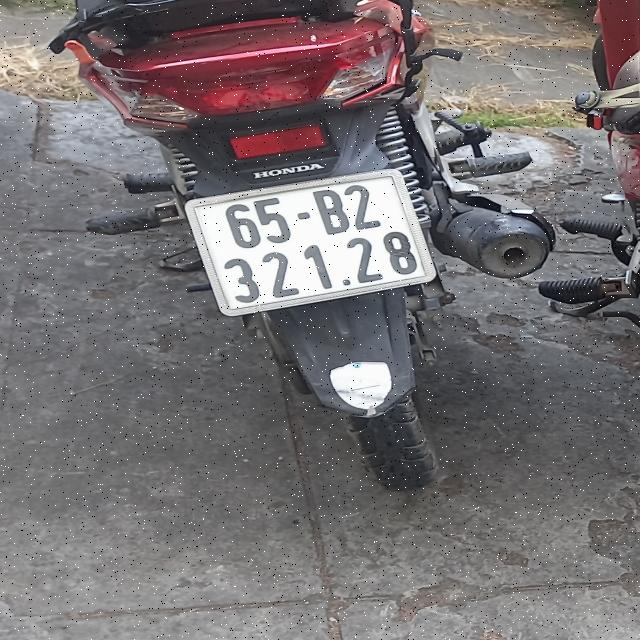1: (299, 242, 337, 292)
2: (342, 235, 384, 283), (262, 249, 298, 300), (342, 181, 379, 230)
3: (220, 256, 264, 307)
5: (255, 196, 292, 248)
6: (224, 202, 260, 253)
8: (381, 229, 417, 278)
B: (311, 186, 352, 237)
